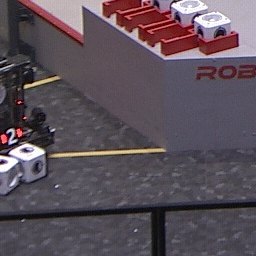Red: (1, 128, 24, 143)
Robot: (1, 44, 58, 159)
